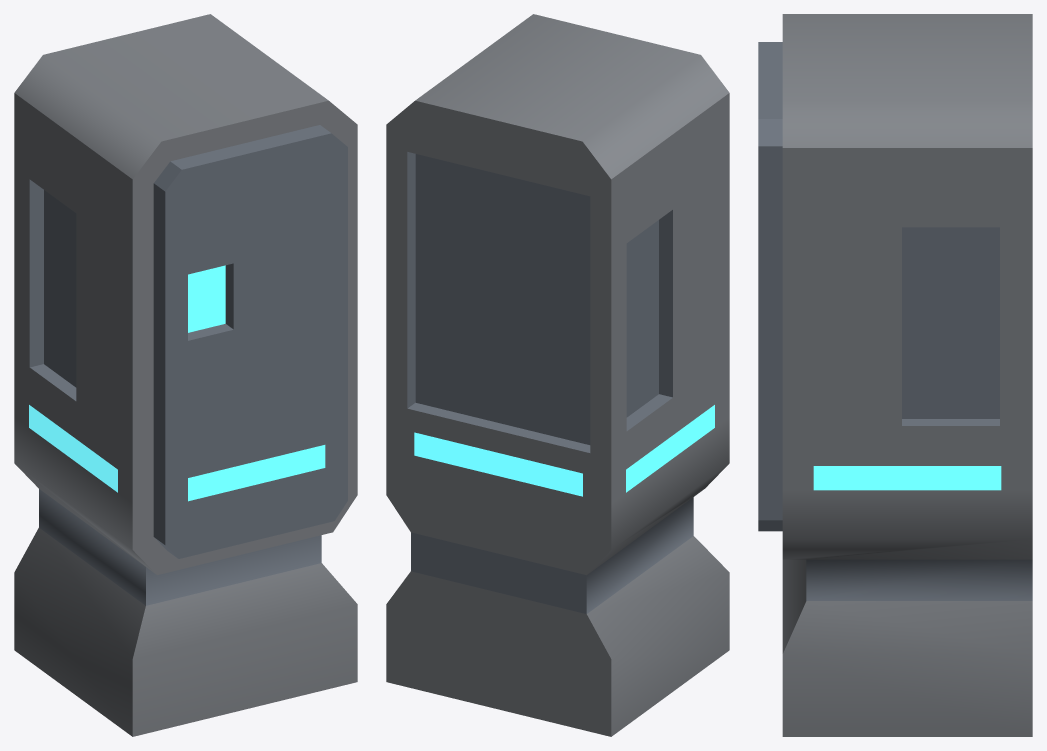
The model's file is Locker.fbx.
The picture shows the model from 3 angles, left to right: view 1: azimuth 30°, elevation 25°; view 2: azimuth 150°, elevation 25°; view 3: azimuth 270°, elevation 25°; orthographic projection. The views are drawn at different scales.
Parts seen in each view (by area): view 1: Locker; view 2: Locker; view 3: Locker.
Part boxes in pixels (<box>): Locker: <box>14,14,357,736</box>; Locker: <box>386,14,729,736</box>; Locker: <box>758,14,1032,736</box>.
Bounding box in the file's own units: 80 × 200 × 80.
